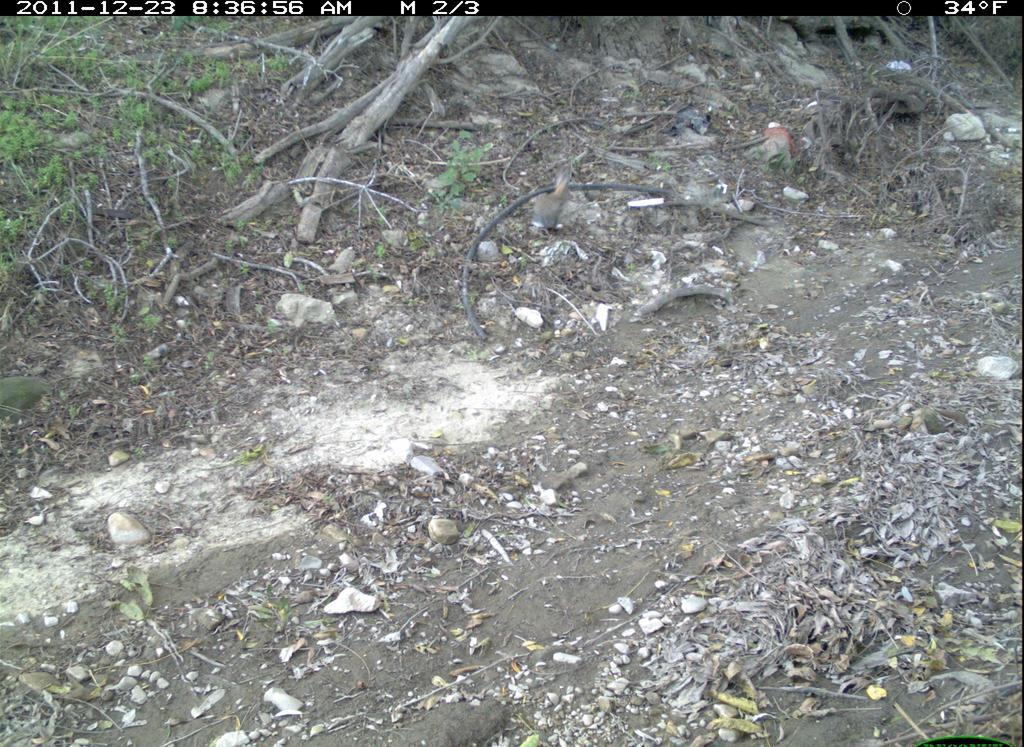rabbit: (528, 155, 587, 259)
